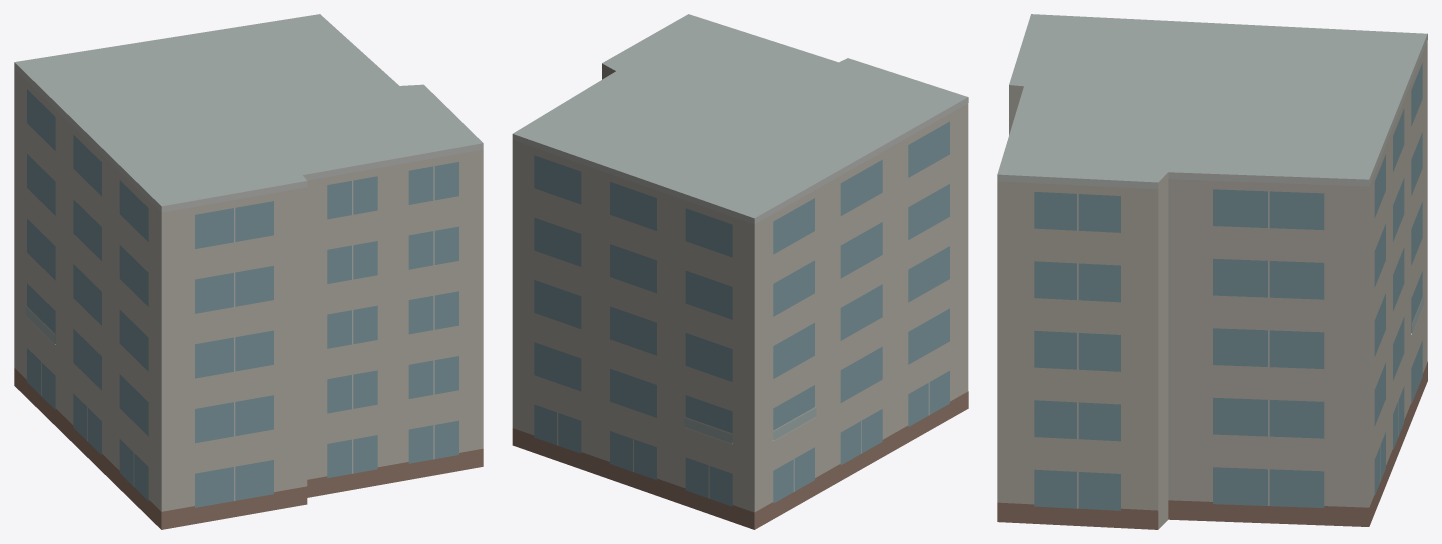
The model's file is survey-upis-32977449.glb.
3 views of the same model, side by side, from view 1: azimuth 30°, elevation 25°; view 2: azimuth 150°, elevation 25°; view 3: azimuth 270°, elevation 25° (orthographic). The views are drawn at different scales.
Parts seen in each view (by area): view 1: survey-upis-32977449.tmp; view 2: survey-upis-32977449.tmp; view 3: survey-upis-32977449.tmp.
Boxes of the visible parts, left/top/right/bottom form: survey-upis-32977449.tmp: left=14, top=14, right=483, bottom=529; survey-upis-32977449.tmp: left=512, top=14, right=968, bottom=529; survey-upis-32977449.tmp: left=997, top=14, right=1427, bottom=529.
Bounding box in the file's own units: 13.01 × 12.5 × 14.04.
